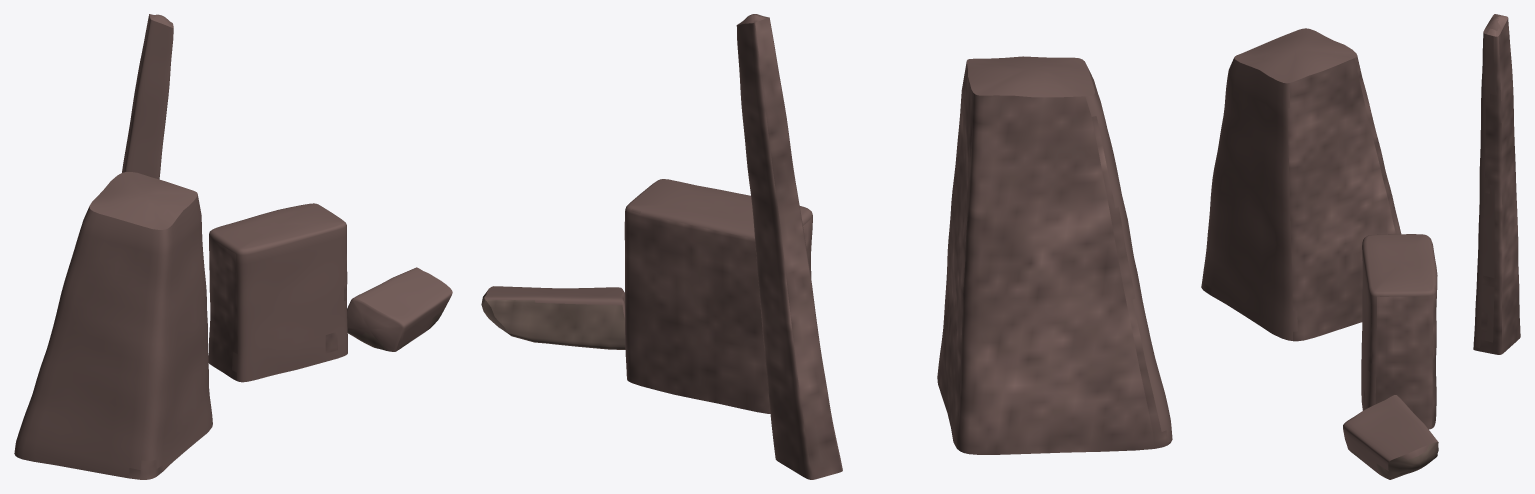
File: TarHenge06.glb
The picture shows the model from 3 angles, left to right: view 1: azimuth 30°, elevation 25°; view 2: azimuth 150°, elevation 25°; view 3: azimuth 270°, elevation 25°; orthographic projection. The views are drawn at different scales.
Visible parts, largest first — view 1: TarHenge06; view 2: TarHenge06; view 3: TarHenge06.
Part boxes in pixels (<box>): TarHenge06: <box>14,14,452,479</box>; TarHenge06: <box>481,14,1172,479</box>; TarHenge06: <box>1201,14,1520,479</box>.
Size of the model in its own units: 5.23 by 3.47 by 2.91.
Materials: 2 (1 with a texture image).
